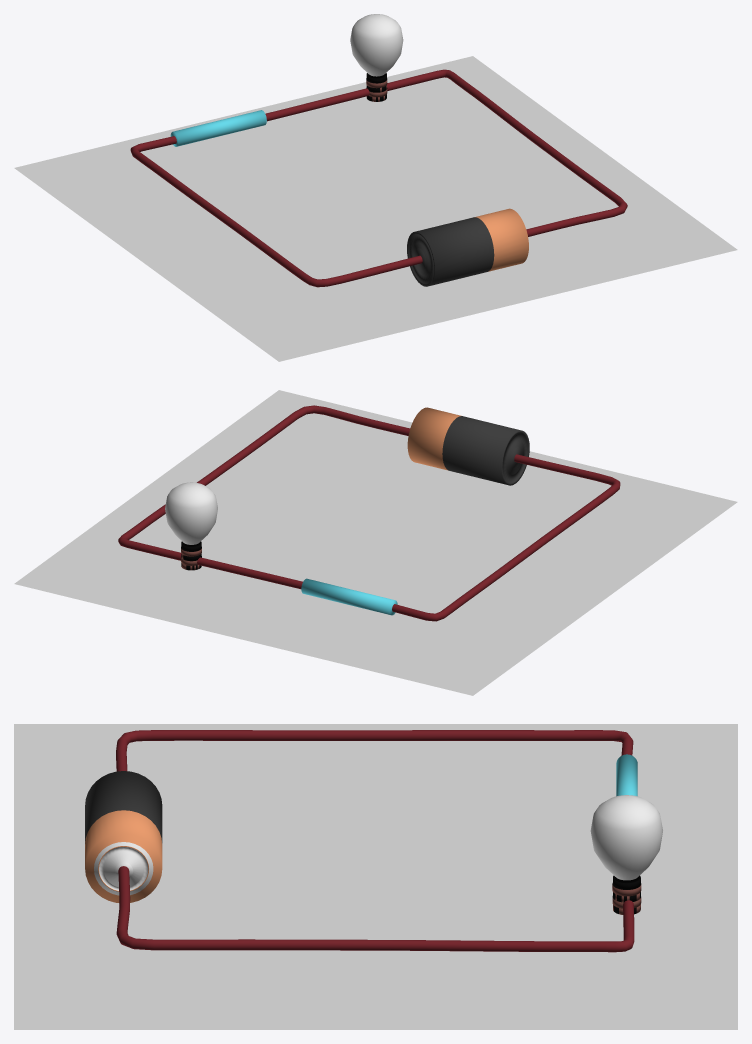
The model's file is ElectricCircuit.fbx.
3 views of the same model, one above another, from view 1: azimuth 30°, elevation 25°; view 2: azimuth 150°, elevation 25°; view 3: azimuth 270°, elevation 25° (orthographic). The views are drawn at different scales.
Parts seen in each view (by area): view 1: Base Plate, Wire; view 2: Base Plate, Wire; view 3: Base Plate, Wire.
Boxes of the visible parts, box(x1,y1,x2,y2) form: Base Plate: box(14, 14, 737, 361); Wire: box(130, 69, 627, 287); Base Plate: box(14, 390, 737, 695); Wire: box(118, 405, 620, 621); Base Plate: box(14, 724, 737, 1029); Wire: box(116, 730, 634, 952).
Bounding box in the file's own units: 400 × 84.84 × 400.
